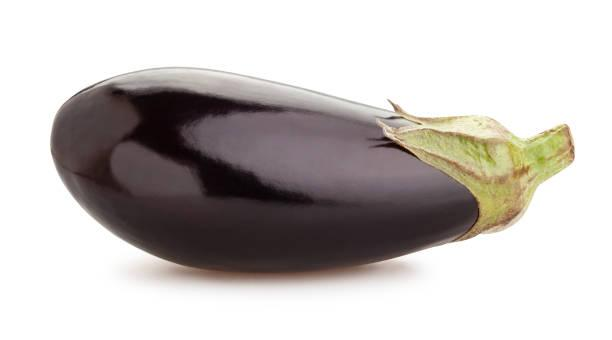Brinjal: (46, 65, 582, 272)
